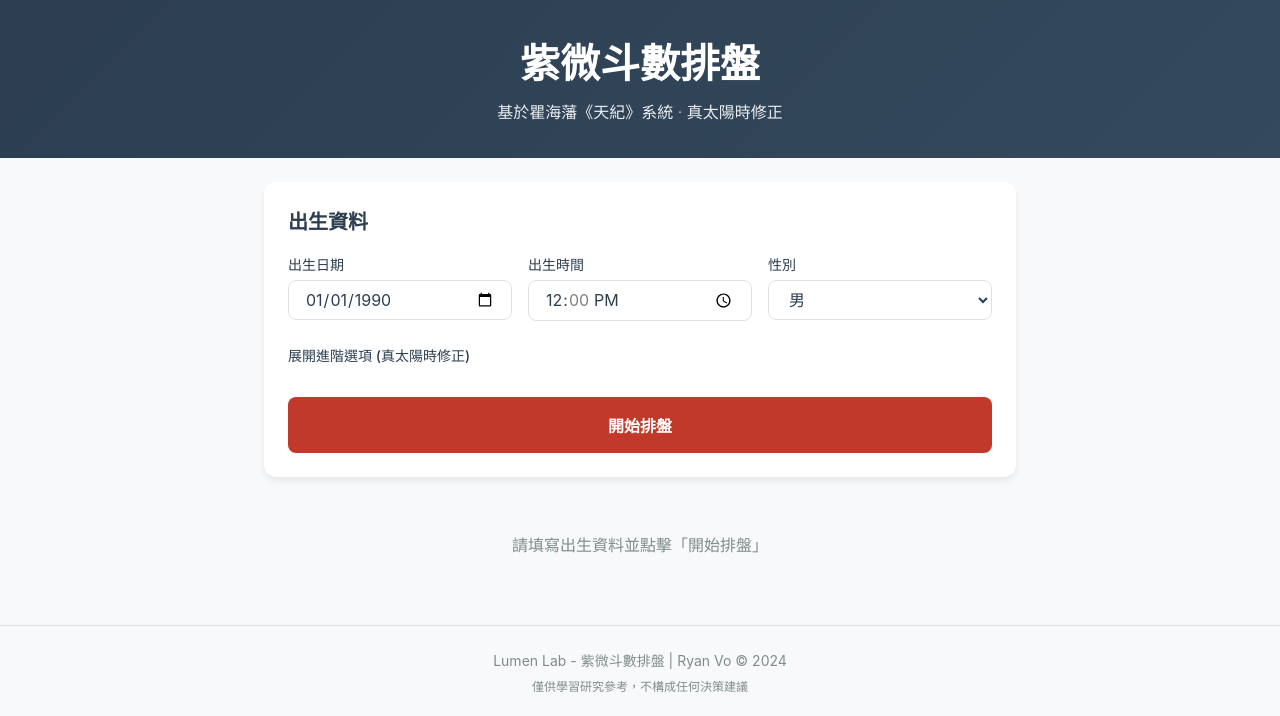
Test case: ChartForm › shows advanced options when toggled
This screenshot has width=1280, height=716.
Click the button "展開進階選項 (真太陽時修正)" at (379, 355), box [288,337,992,373]
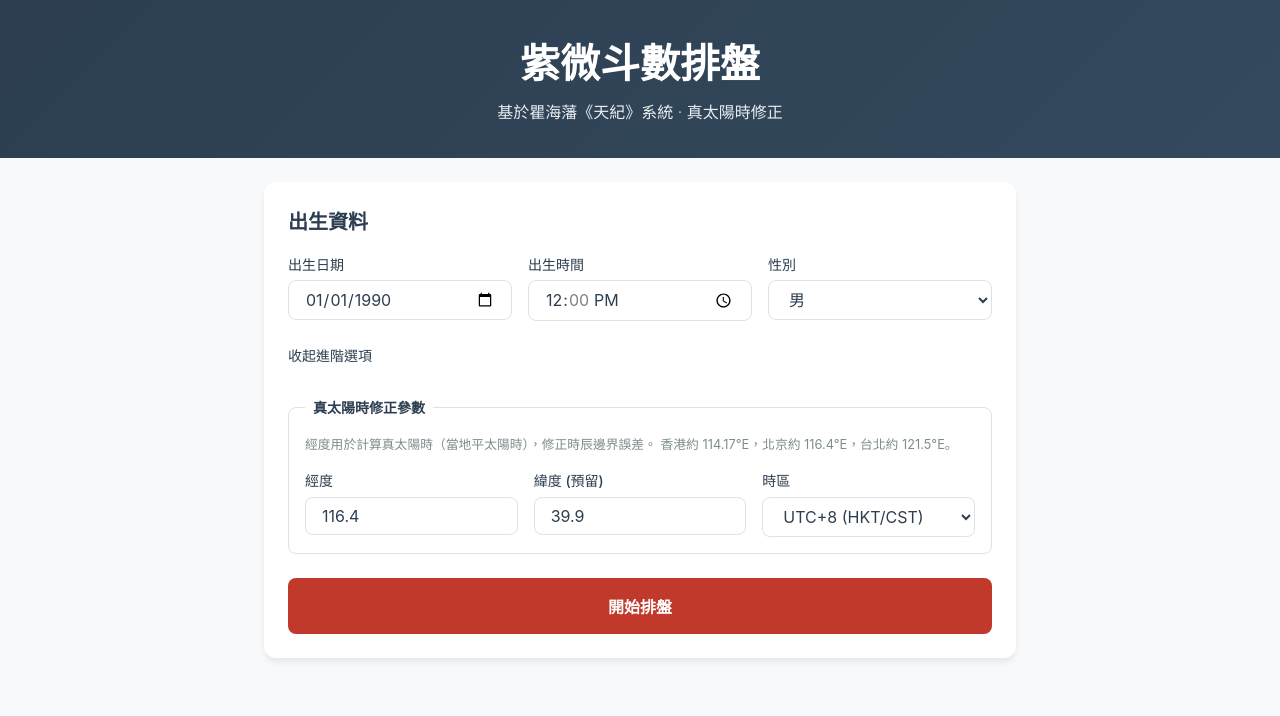
Now the number field labelled "經度" is shown, box [305,497,518,535]
Now the number field labelled "緯度 (預留)" is shown, box [534,497,746,535]
Now the dropdown labelled "時區" is shown, box [762,497,975,537]
